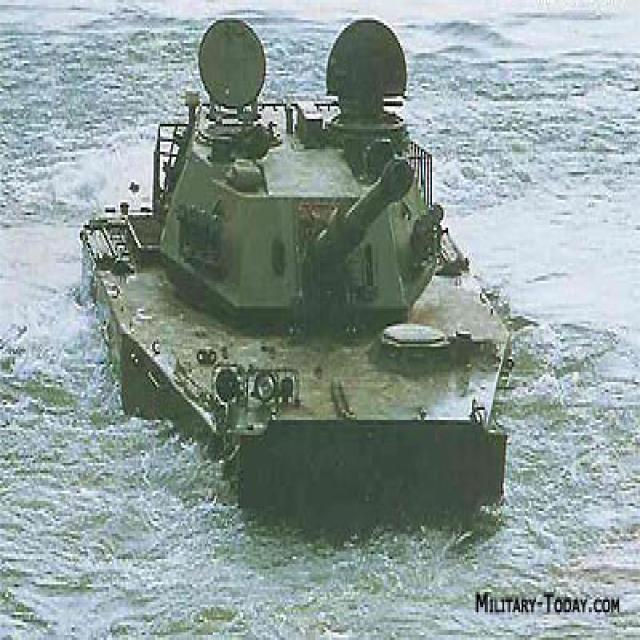Tank: (87, 2, 538, 507)
